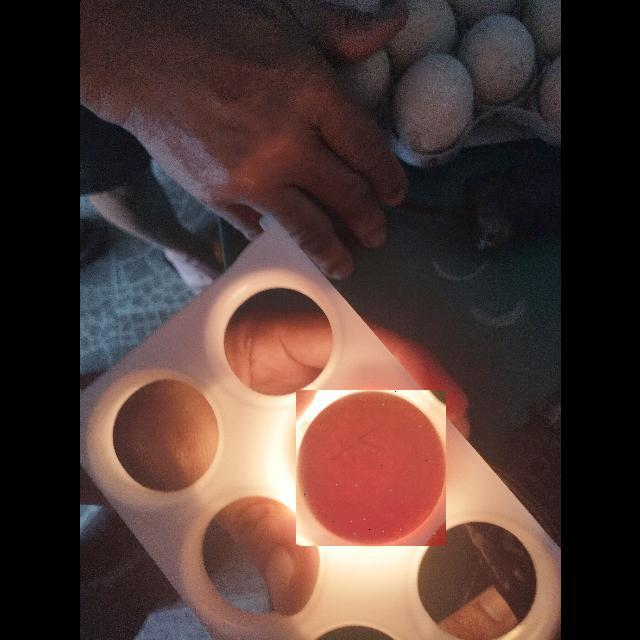Infertile: (296, 390, 446, 546)
